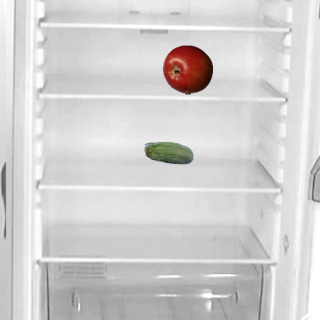Apple Braeburn: (162, 44, 212, 94)
Corn Husk: (143, 129, 193, 179)
